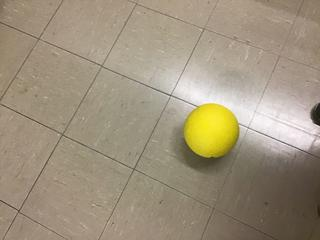power_cell: (178, 94, 241, 165)
